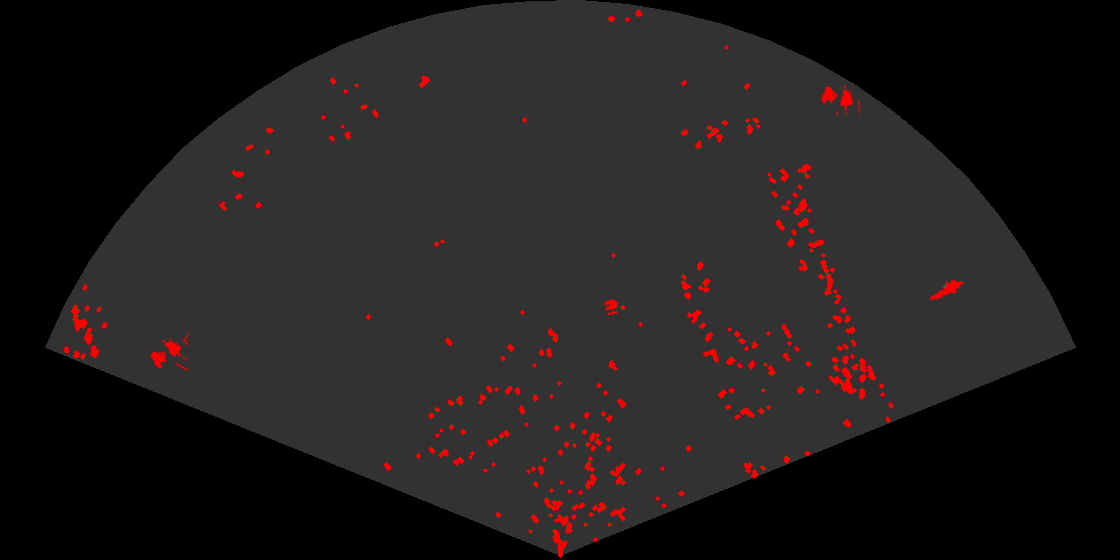ball: (602, 297, 620, 317)
cage: (149, 332, 188, 373), (820, 84, 860, 115)
frogman: (927, 278, 963, 302)
